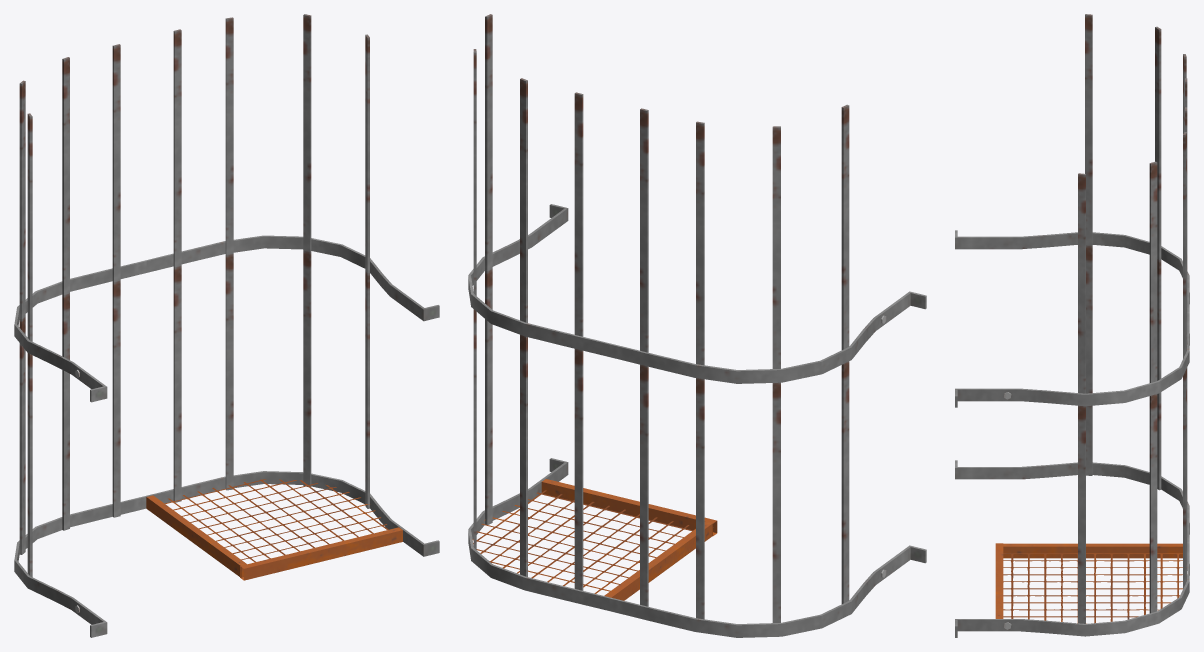
File: CageLadderOpenRight.fbx
3 renders of one model, left to right at view 1: azimuth 30°, elevation 25°; view 2: azimuth 150°, elevation 25°; view 3: azimuth 270°, elevation 25°, orthographic. The views are drawn at different scales.
Parts seen in each view (by area): view 1: Cage_Ladder_OpenRight_LOD0; view 2: Cage_Ladder_OpenRight_LOD0; view 3: Cage_Ladder_OpenRight_LOD0.
Part boxes in pixels (box(x1,y1,x2,y2)): Cage_Ladder_OpenRight_LOD0: box(14, 14, 439, 637); Cage_Ladder_OpenRight_LOD0: box(468, 14, 926, 637); Cage_Ladder_OpenRight_LOD0: box(955, 14, 1189, 637).
Size of what is drawn, in the model's own units: 1.55 by 2 by 0.9238.
